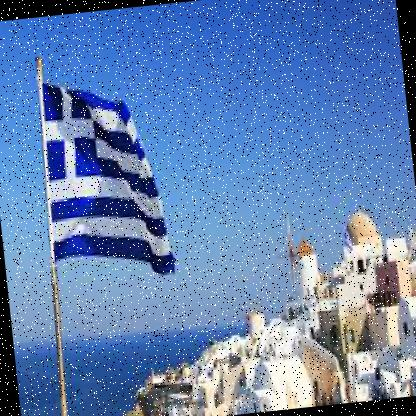gr: (35, 63, 182, 295)
